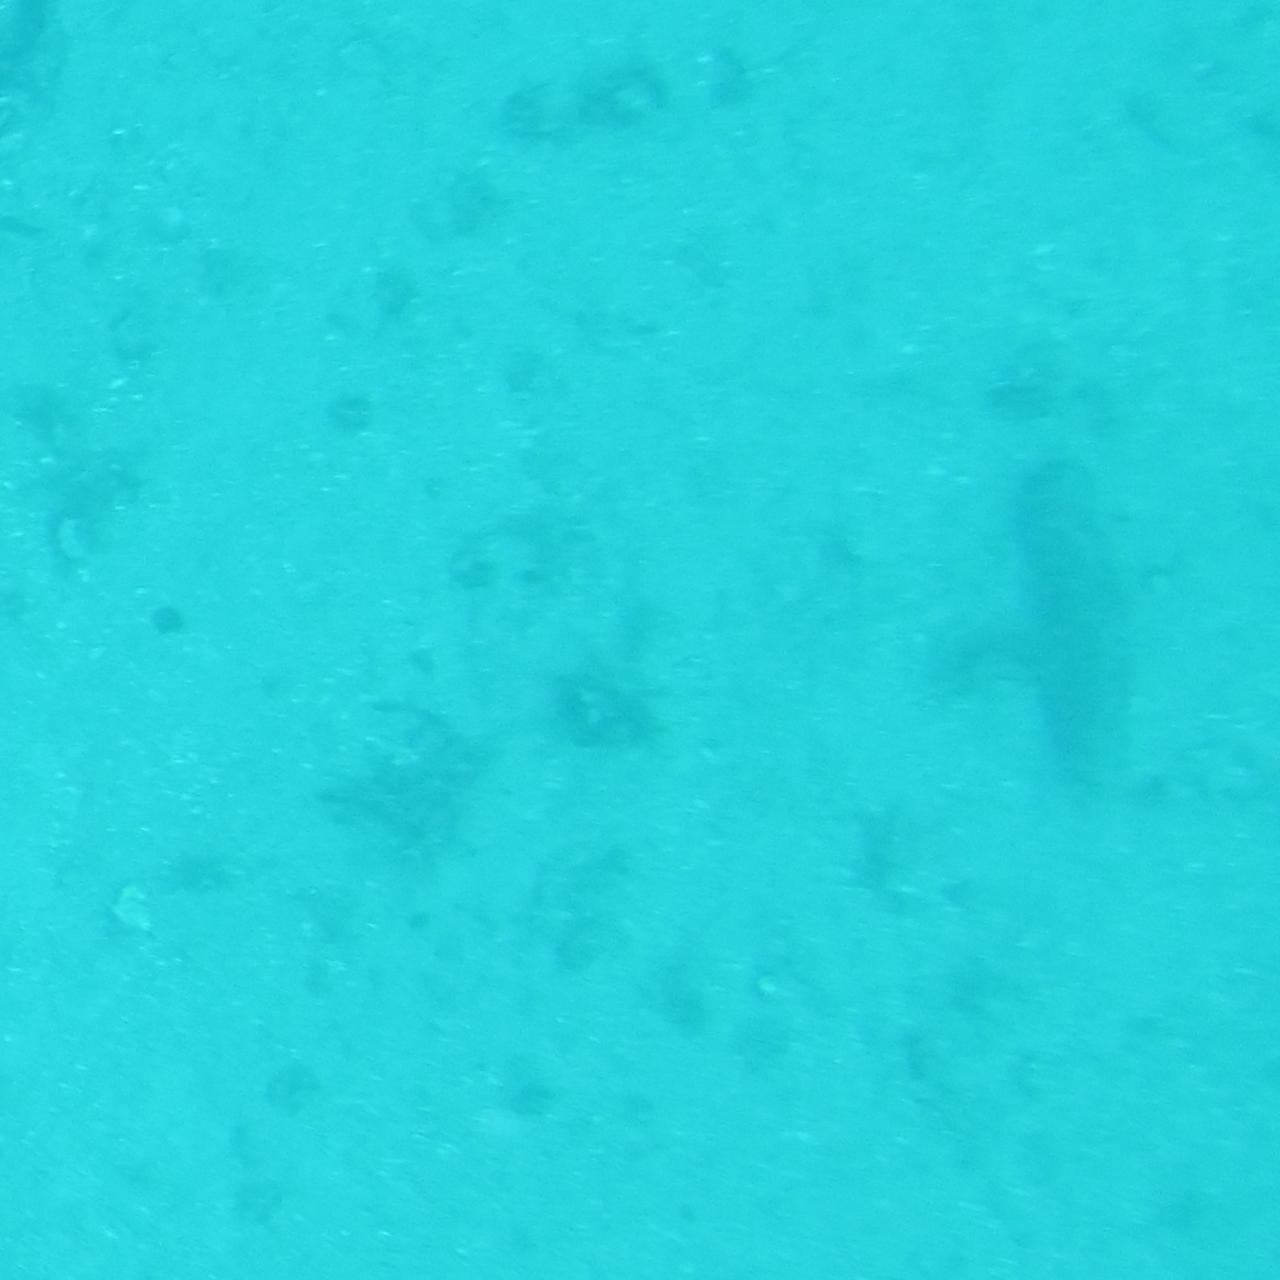Holothuria tubulosa: (987, 447, 1148, 833)
